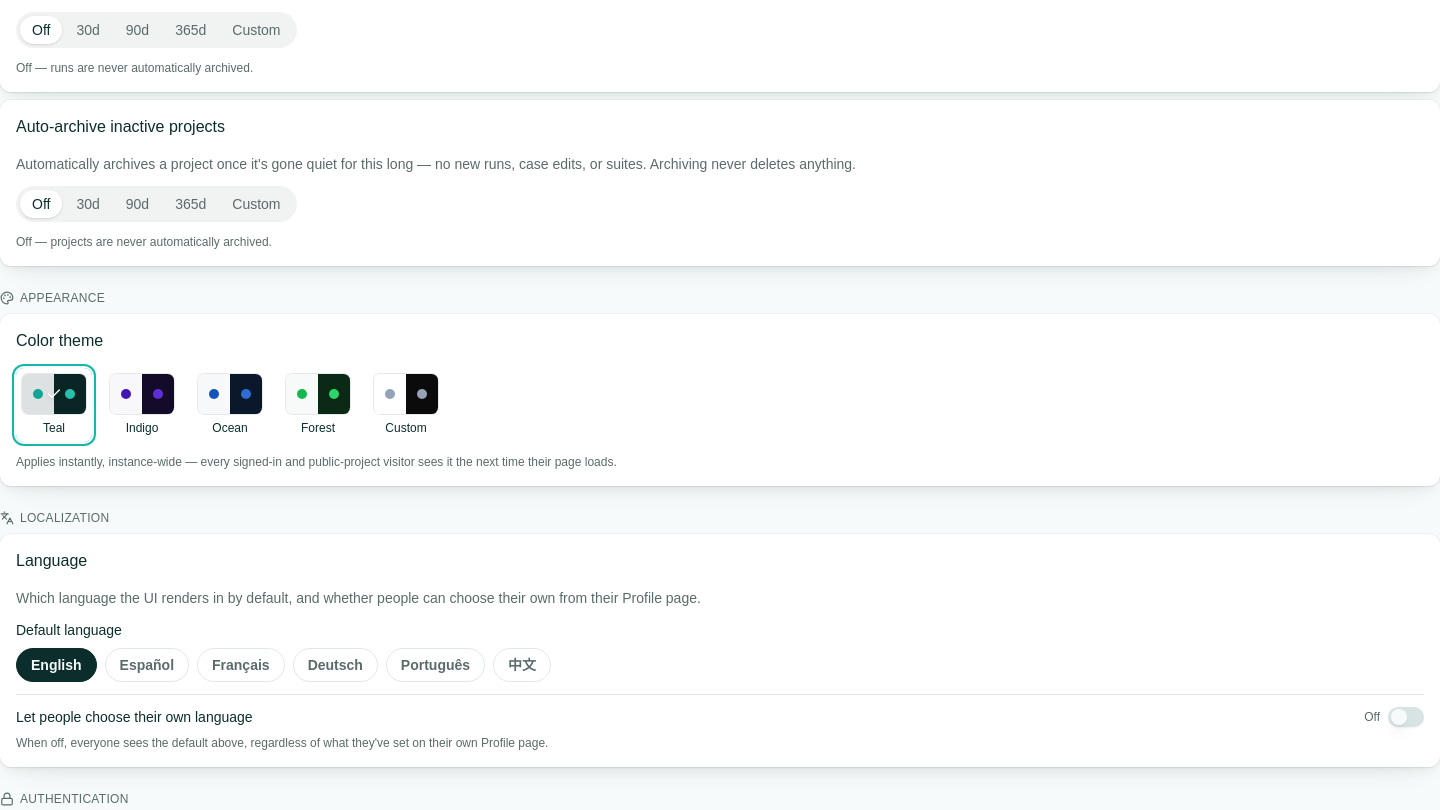
Test: InstanceSettingsPage › Appearance › hides the custom editor when a preset is selected, and reopening Custom starts fresh from that preset
This screenshot has width=1440, height=810.
(page scrolled)
Expected: the element named "Color theme" is shown, [16,368,444,442]
Click the 3rd button "Custom" at (406, 405), box [368,368,444,442]
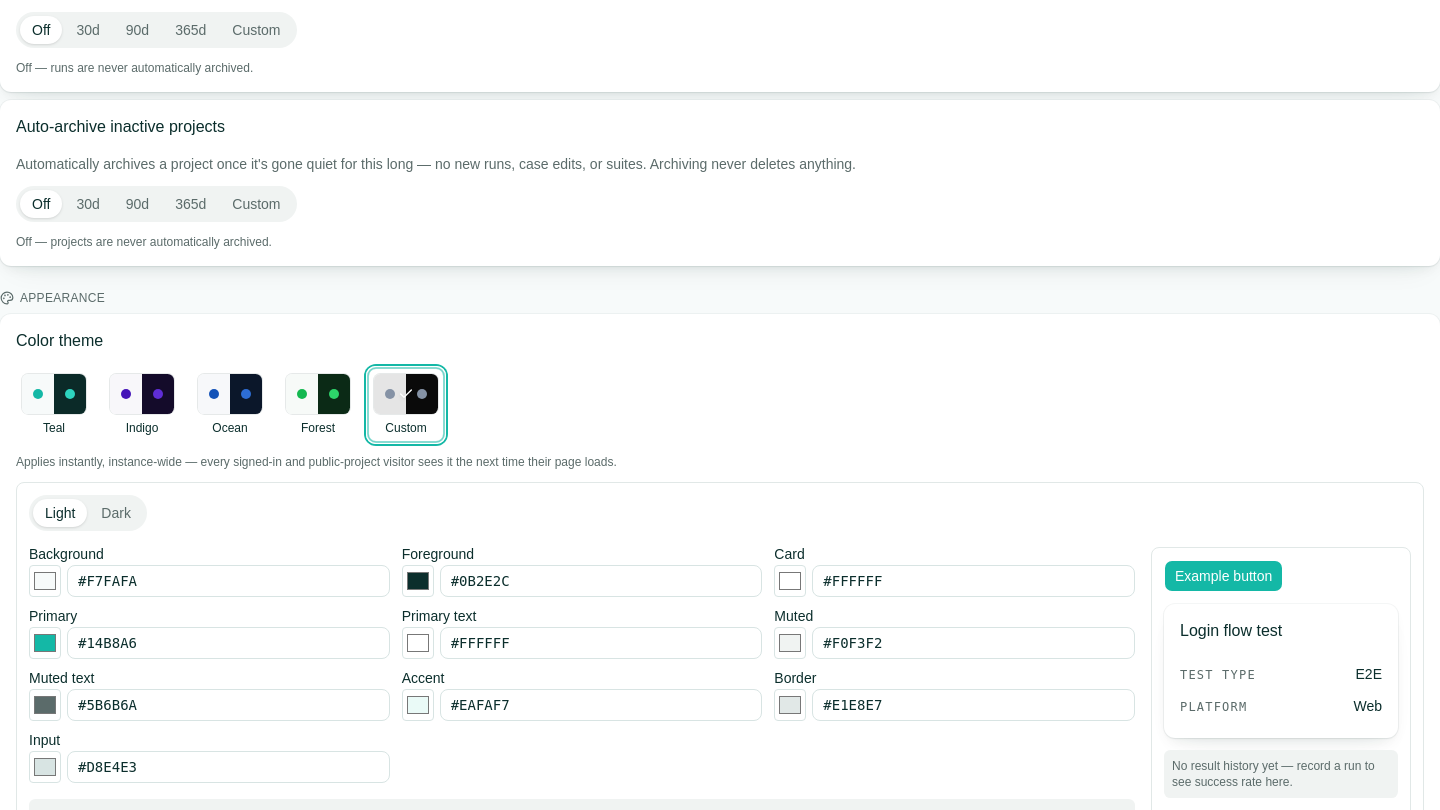
Replace the text in the field labelled "Primary" with "#123456" at (228, 643), box [67,627,390,659]
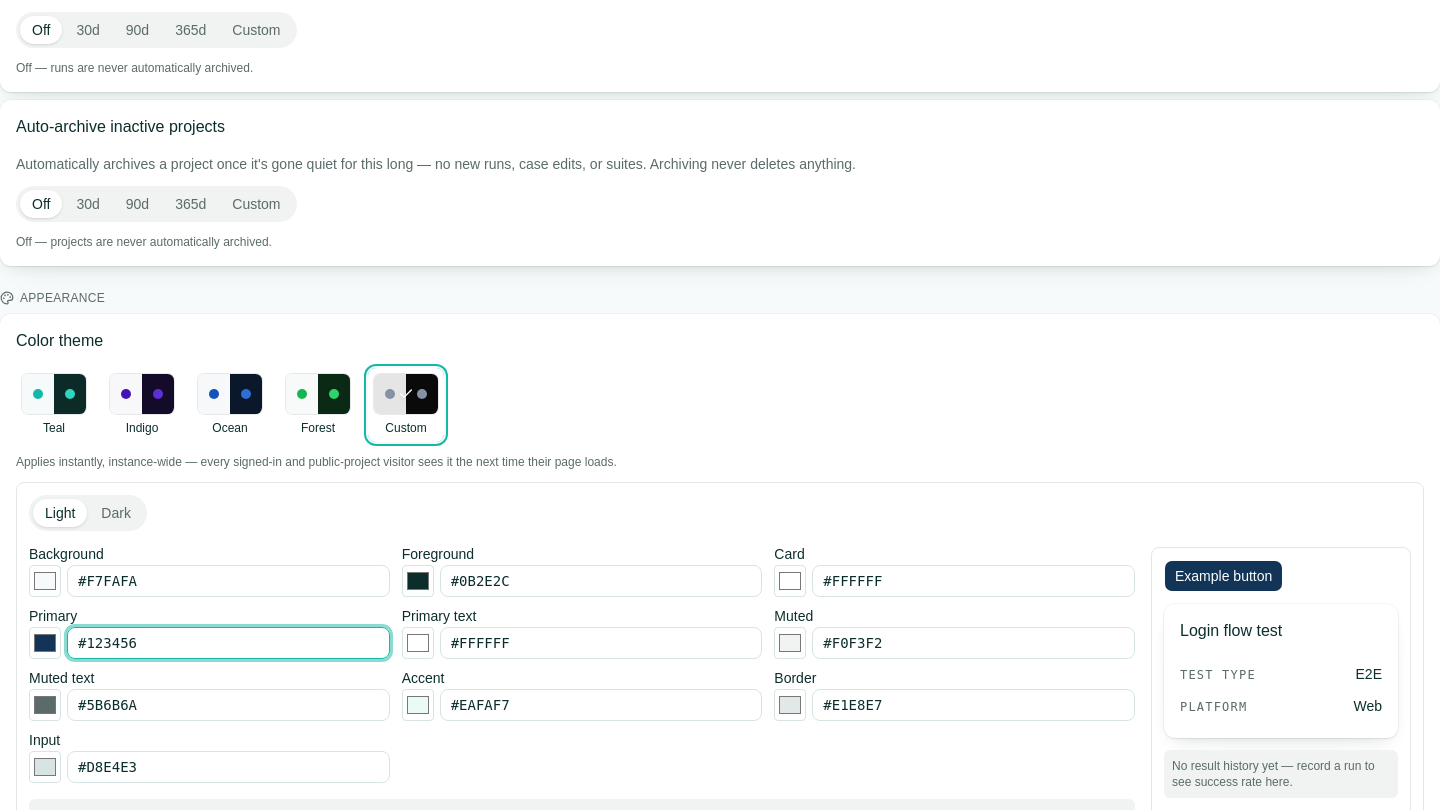
Click the button "Ocean" at (230, 405), box [192,368,268,442]
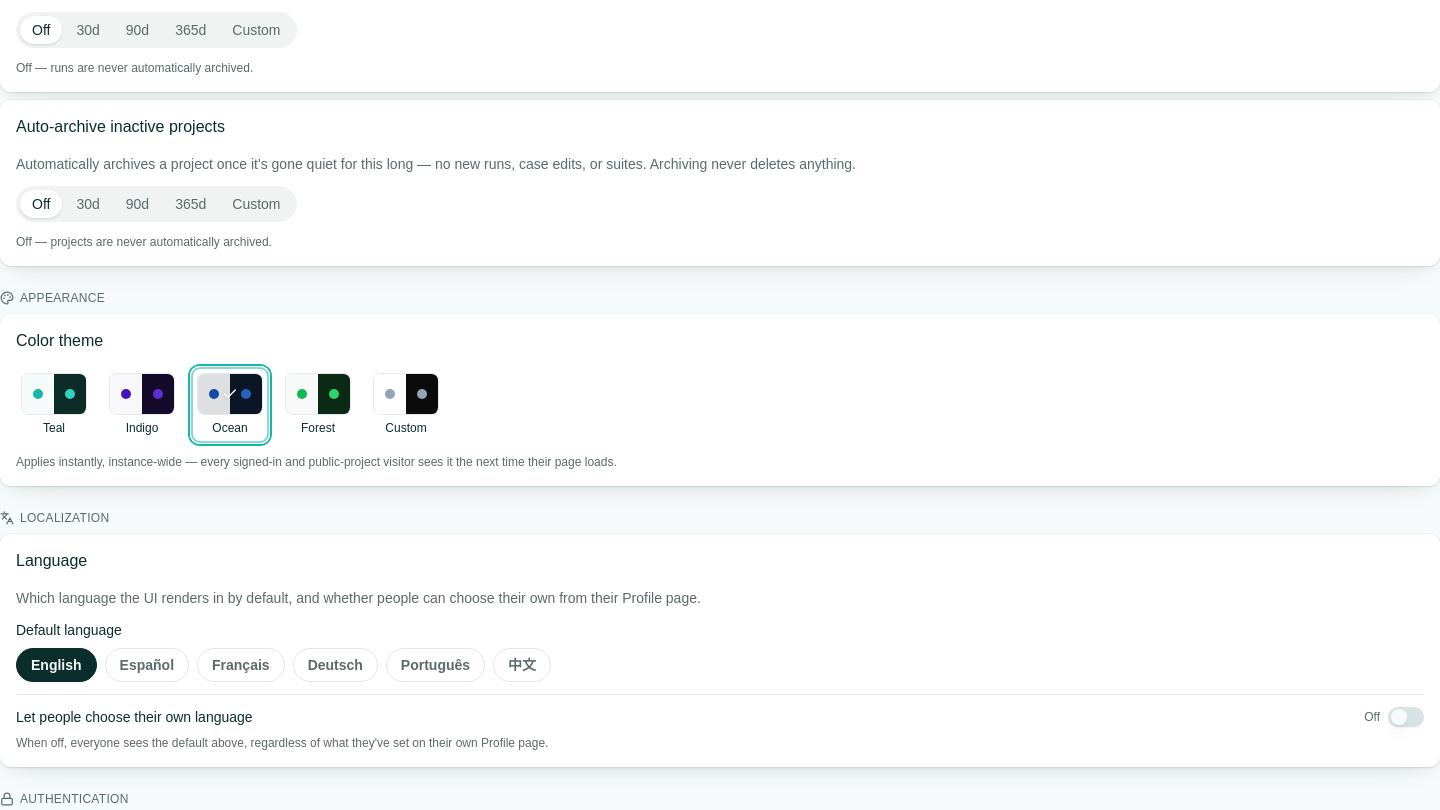
Click the 3rd button "Custom" at (406, 405), box [368,368,444,442]
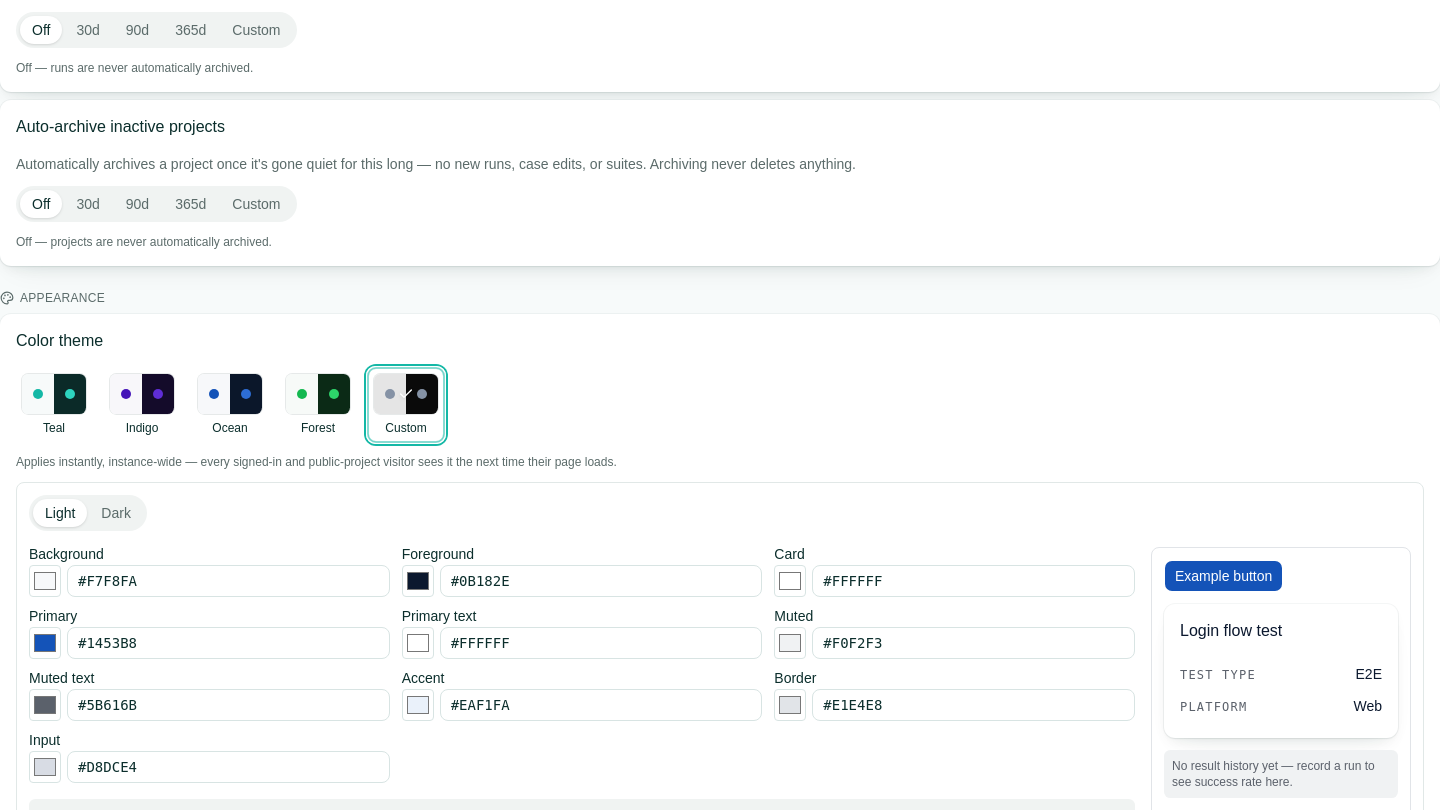
Expected: the field labelled "Primary" holds "#1453B8", [67,627,390,659]
